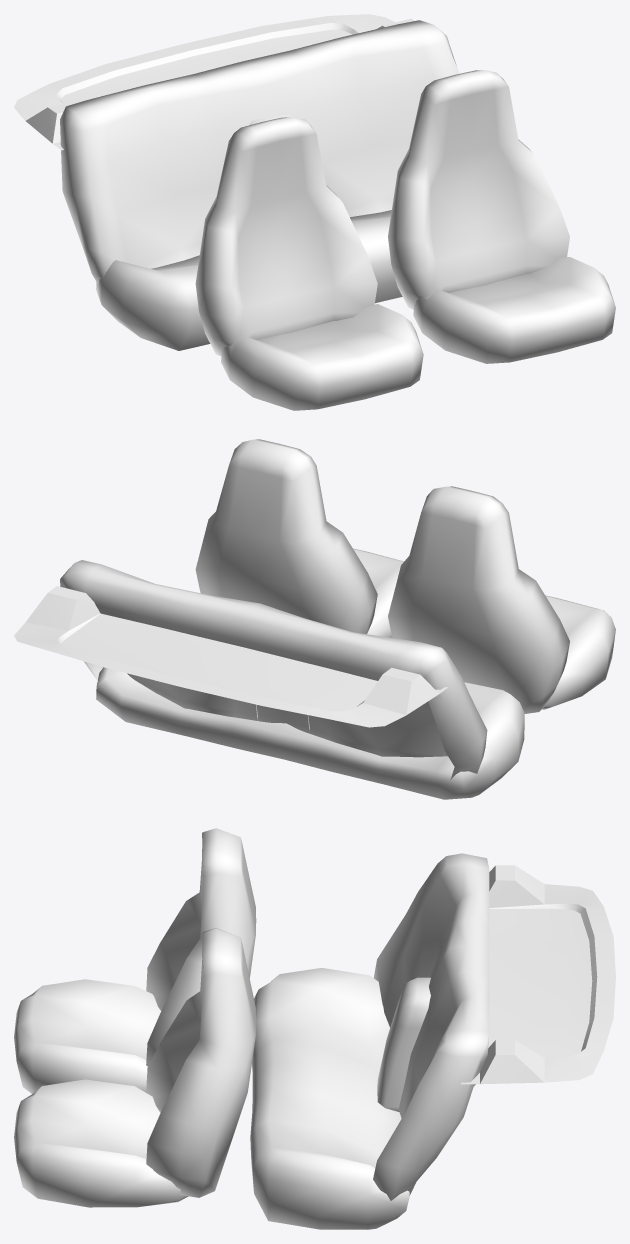
3 renders of one model, top to bottom at view 1: azimuth 30°, elevation 25°; view 2: azimuth 150°, elevation 25°; view 3: azimuth 270°, elevation 25°, orthographic. The views are drawn at different scales.
Bounding box in the file's own units: 1.44 × 0.8075 × 1.78.
1 material, 1 textured.
